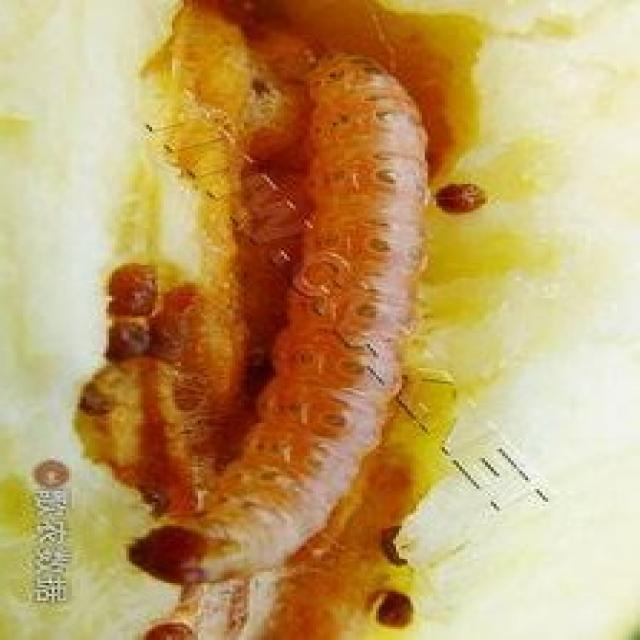peach borer: (126, 48, 439, 590)
